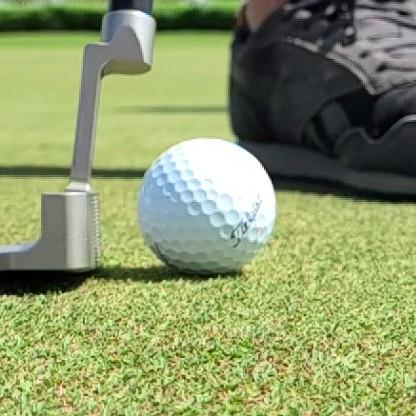golfball: (137, 138, 275, 276)
